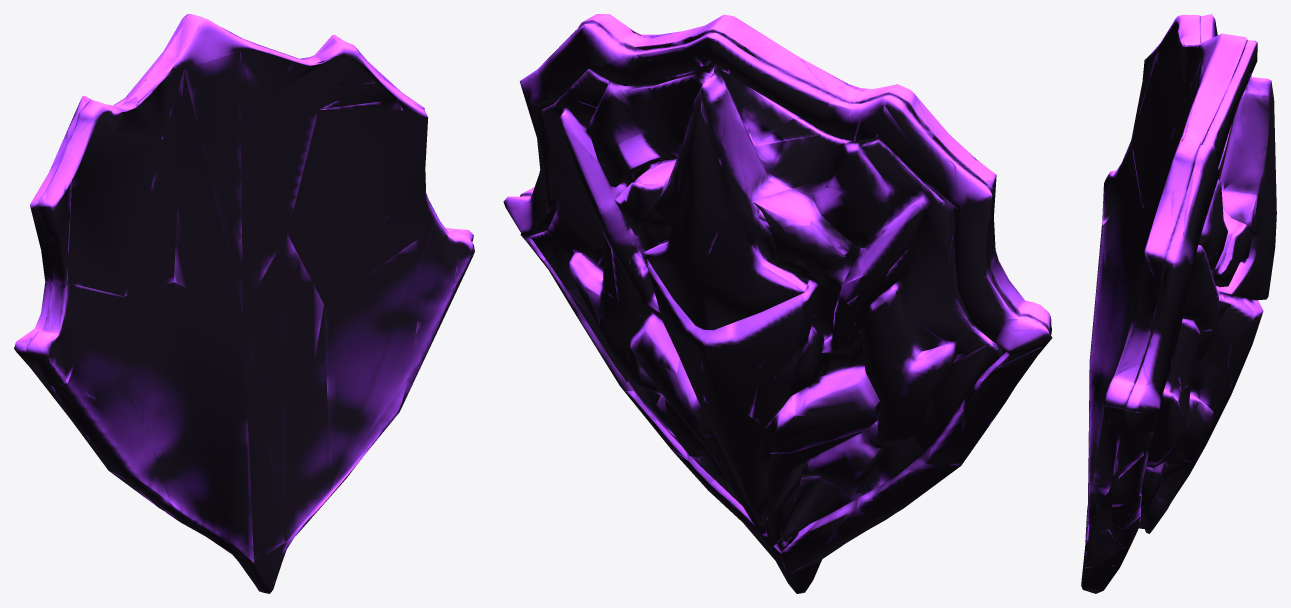
Rendered from Swordbag_low.glb.
The picture shows the model from 3 angles, left to right: view 1: azimuth 30°, elevation 25°; view 2: azimuth 150°, elevation 25°; view 3: azimuth 270°, elevation 25°; orthographic projection. The views are drawn at different scales.
Visible parts, largest first — view 1: Swordbag_low; view 2: Swordbag_low; view 3: Swordbag_low.
Boxes of the visible parts, <box> form: Swordbag_low: <box>14,14,474,593</box>; Swordbag_low: <box>503,14,1052,593</box>; Swordbag_low: <box>1081,14,1276,593</box>.
Bounding box in the file's own units: 0.2965 × 0.3261 × 0.1036.
1 material, 1 textured.
